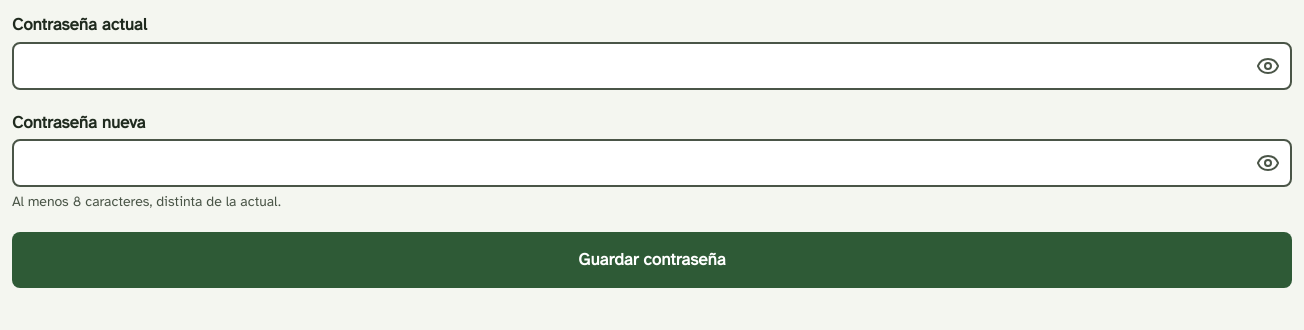
Scenario: ChangePasswordForm › muestra junto al campo que la contraseña actual no es correcta
Type "equivocada" into the password field labelled "Contraseña actual" at (652, 66), box x1=12 y1=42 x2=1292 y2=90
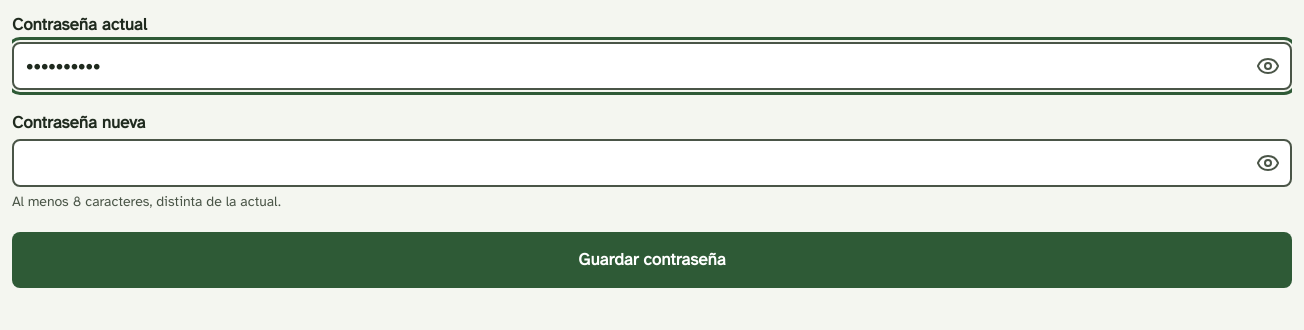
Type "nueva-clave-segura" into the password field labelled "Contraseña nueva" at (652, 163), box x1=12 y1=139 x2=1292 y2=187
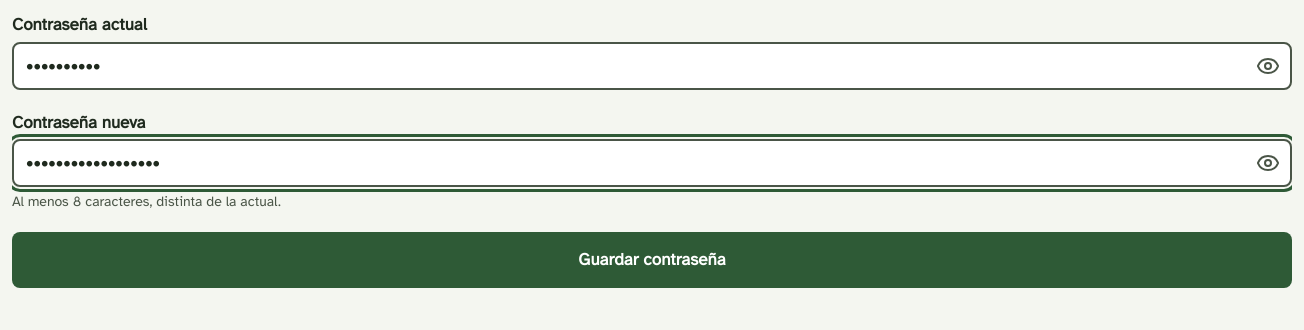
Click the button "Guardar contraseña" at (652, 260), box x1=12 y1=232 x2=1292 y2=288
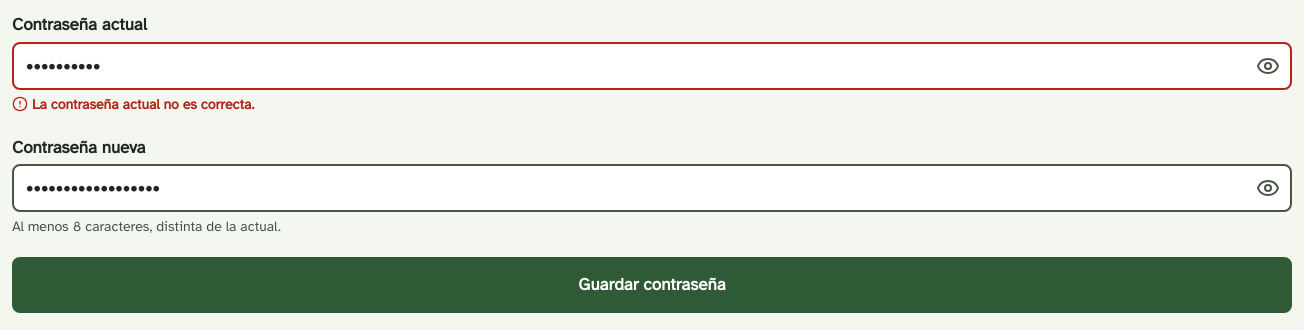
Expected: the text "La contraseña actual no es correcta." is shown, x1=12 y1=96 x2=254 y2=112
